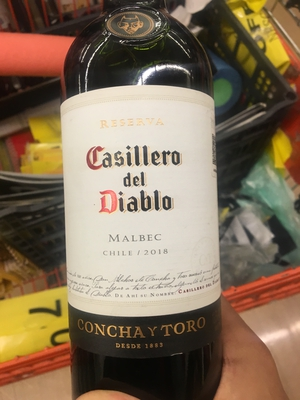casillero del diablo malbec: (61, 12, 246, 387)
